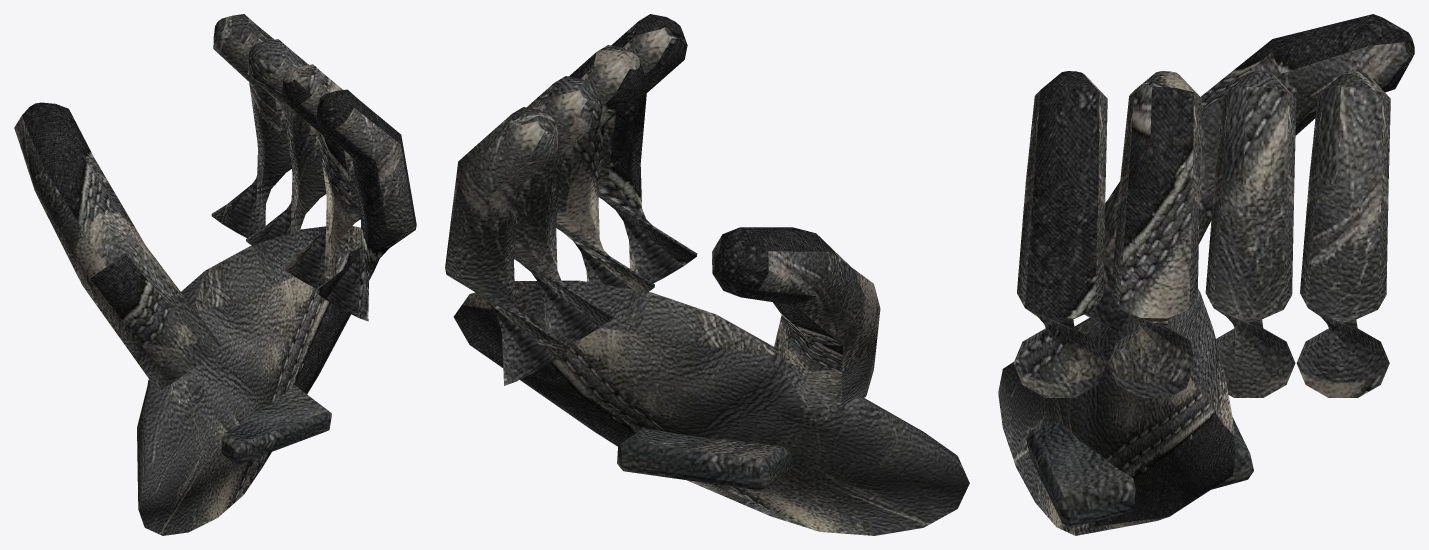
File: hand_rifle_l.glb
3 views of the same model, side by side, from view 1: azimuth 30°, elevation 25°; view 2: azimuth 150°, elevation 25°; view 3: azimuth 270°, elevation 25° (orthographic). The views are drawn at different scales.
Visible parts, largest first — view 1: palm_l, lthumb, lfinger_3, lfinger_2, lfinger_0, lfinger_1, palm_pad; view 2: palm_l, lthumb, lfinger_0, lfinger_3, lfinger_1, lfinger_2, palm_pad; view 3: palm_l, lfinger_0, lfinger_3, lfinger_2, lfinger_1, lthumb, palm_pad.
Boxes of the visible parts, x1,y1,x2,y2 form: palm_l: (137,226,378,535); lthumb: (14,102,220,390); lfinger_3: (314,89,416,321); lfinger_2: (280,64,360,288); lfinger_0: (211,14,291,237); lfinger_1: (246,39,326,245); palm_pad: (147,379,331,464); palm_l: (453,280,969,535); lthumb: (712,227,880,409); lfinger_0: (445,107,570,385); lfinger_3: (598,14,697,283); lfinger_1: (513,76,612,345); lfinger_2: (556,45,654,291); palm_pad: (617,428,794,490); palm_l: (998,289,1235,535); lfinger_0: (1296,71,1390,397); lfinger_3: (1013,71,1107,397); lfinger_2: (1108,71,1201,397); lfinger_1: (1205,71,1296,397); lthumb: (1084,14,1414,331); palm_pad: (1026,417,1253,527).
Bounding box in the file's own units: 4.75 × 5.32 × 3.75.
2 materials, 2 textured.
